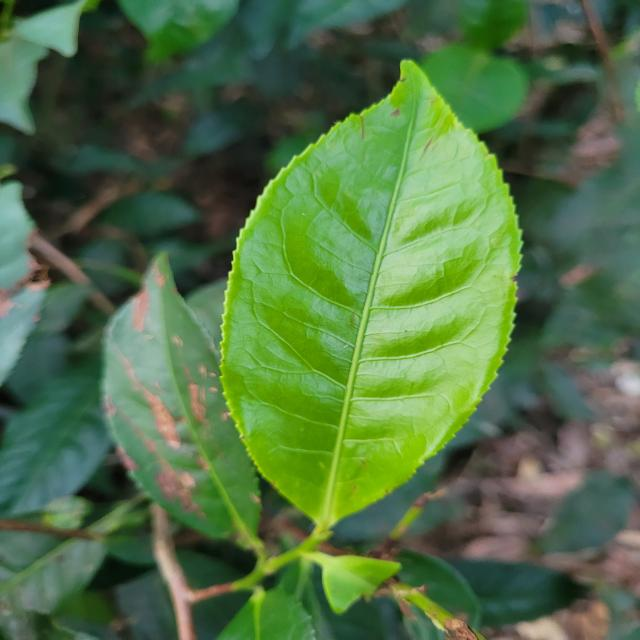Catagory A(1-2 days): (208, 48, 536, 537)
